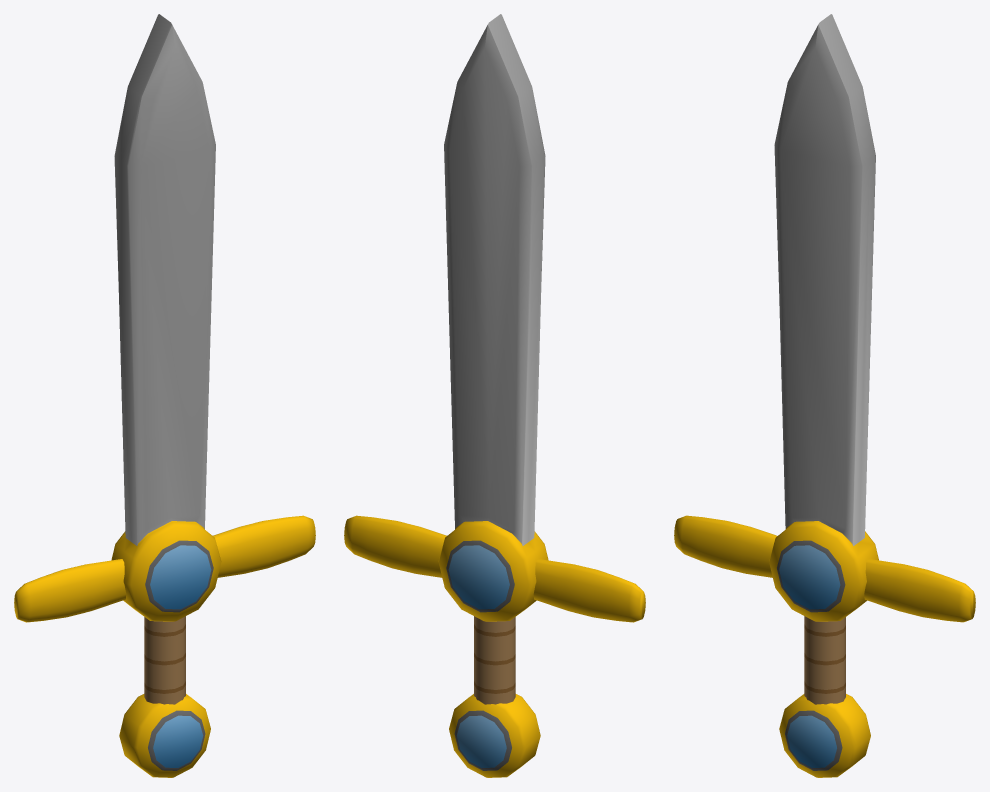
The model's file is Sowrd_1.fbx.
3 renders of one model, left to right at view 1: azimuth 30°, elevation 25°; view 2: azimuth 150°, elevation 25°; view 3: azimuth 330°, elevation 25°, orthographic.
Parts seen in each view (by area): view 1: Sowrd_1; view 2: Sowrd_1; view 3: Sowrd_1.
Boxes of the visible parts, x1=… form: Sowrd_1: x1=14, y1=14, x2=315, y2=777; Sowrd_1: x1=344, y1=14, x2=645, y2=777; Sowrd_1: x1=674, y1=14, x2=975, y2=777.
Size of the model in its own units: 0.1707 by 0.4169 by 0.031.
